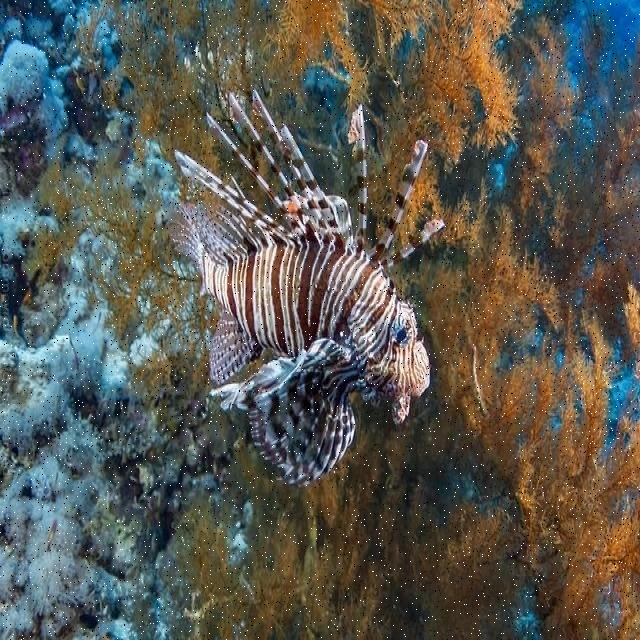fish: (164, 88, 445, 486)
